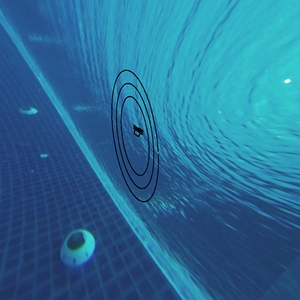submarine: (130, 124, 146, 137)
